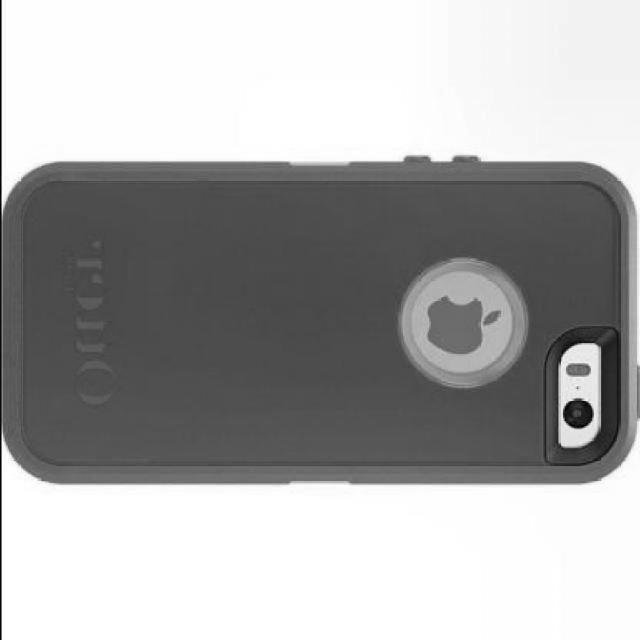fake: (15, 144, 620, 504)
